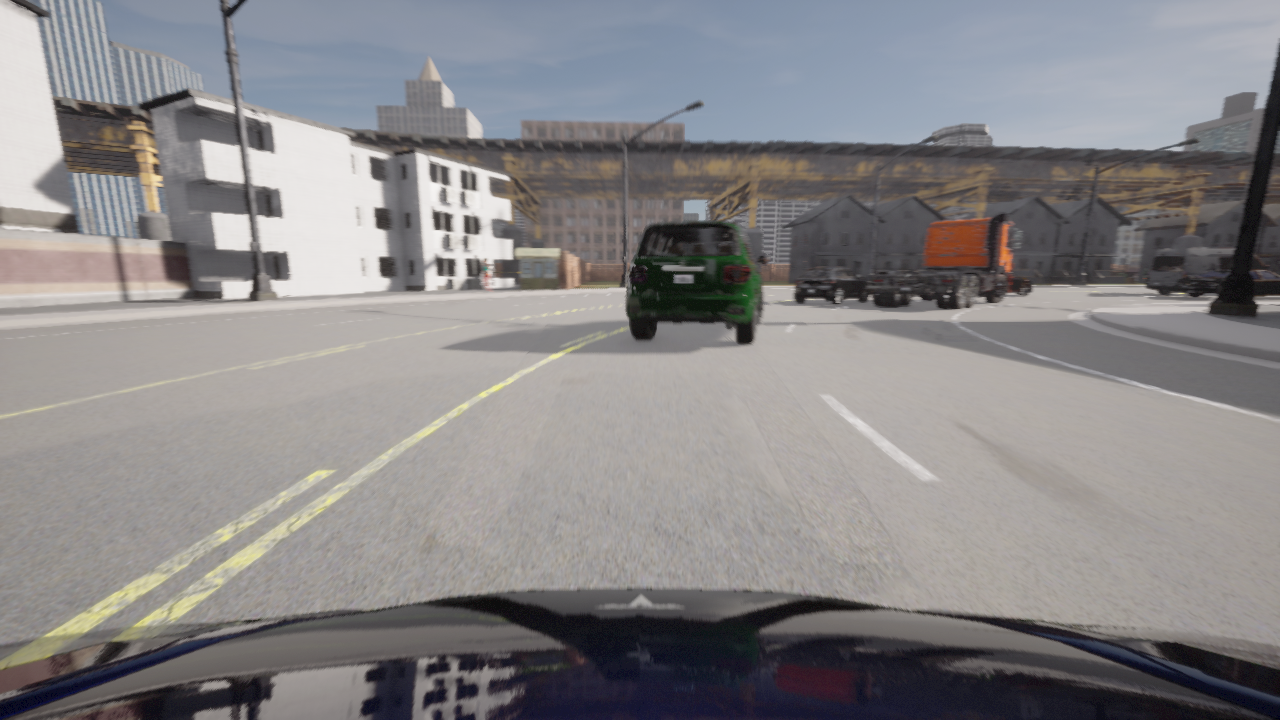cyclist: (0, 588, 1279, 719), (626, 221, 768, 343), (866, 213, 1022, 309), (1147, 248, 1268, 295), (1173, 269, 1279, 297), (795, 266, 870, 304), (977, 272, 1032, 296)
pedestrian: (482, 258, 491, 292)
